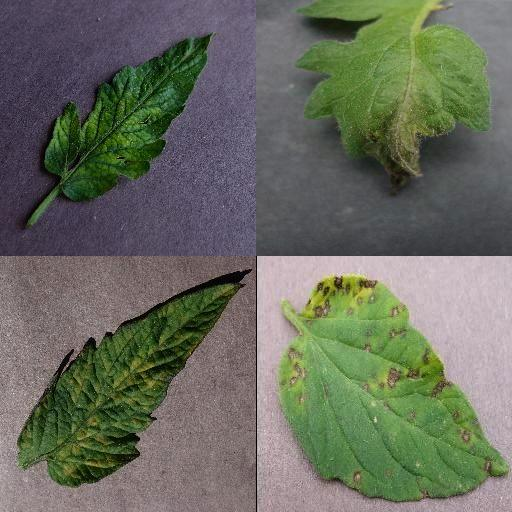Late Blight: (294, 0, 492, 198)
Leaf Mold: (19, 282, 245, 486)
Mosaic Virus: (45, 30, 213, 204)
Septoria: (276, 276, 508, 504)
